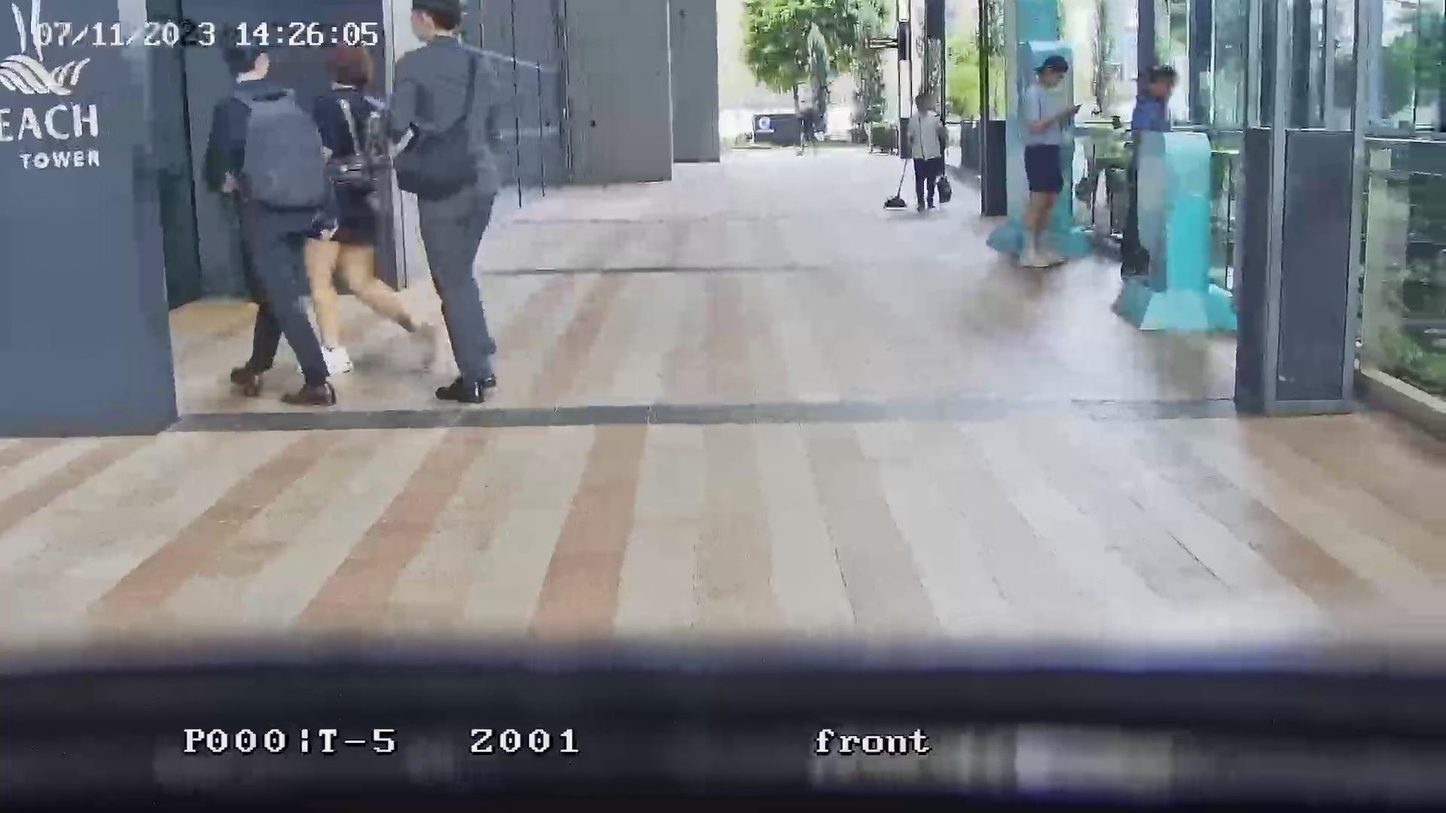person: (203, 47, 342, 407), (389, 2, 508, 403), (303, 38, 421, 380), (1018, 54, 1081, 269), (907, 91, 950, 212), (1130, 64, 1176, 132)
